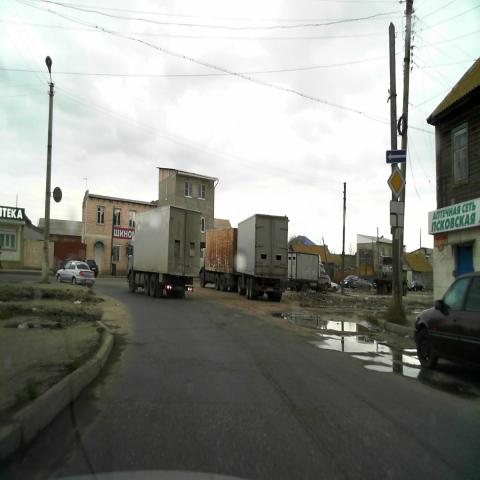5_7_2: (386, 149, 407, 163)
